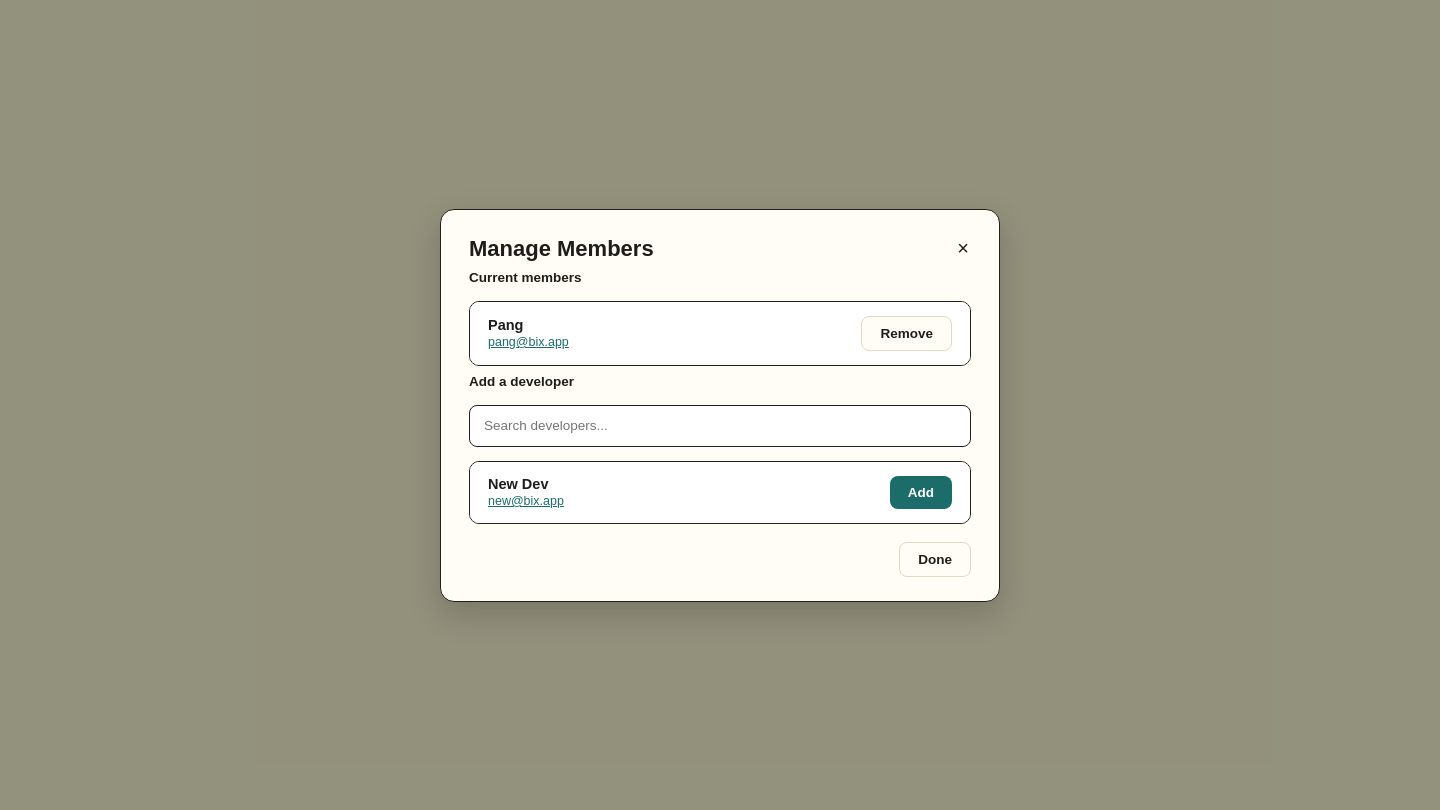
it: ManageMembersModal › shows the backend error inline when adding fails, without closing the modal
Expected: the text "New Dev" is shown, [488,476,548,492]
Click the button "Add": (921, 492) [890,476,952,508]
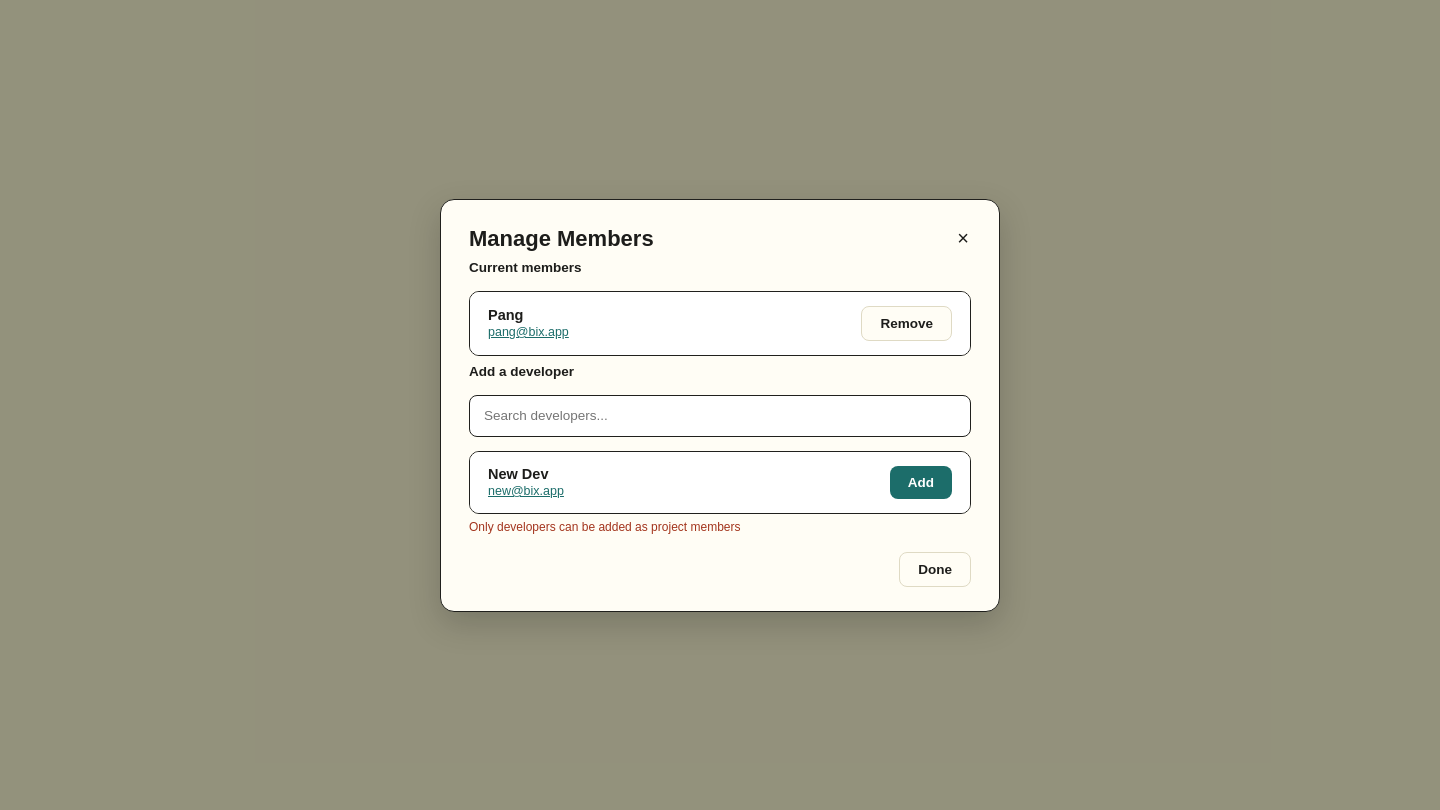
Expected: the message reads "Only developers can be added as project members", [469,520,740,534]
